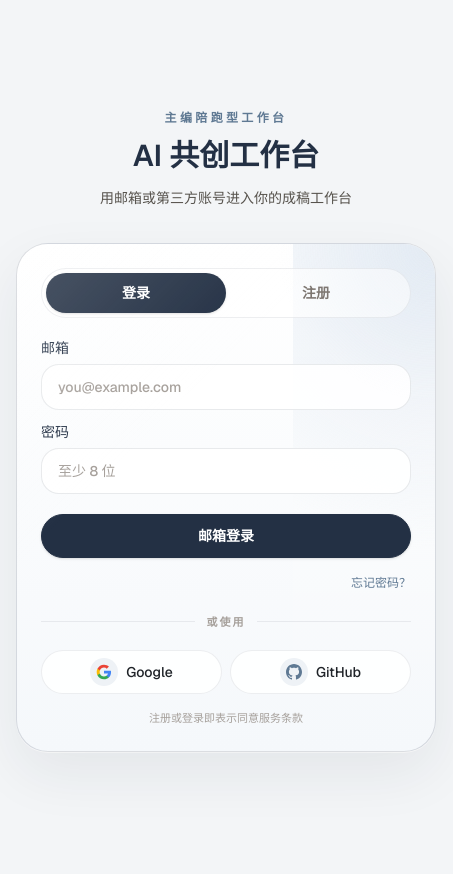
Test: LoginPage › registers with email, name, and password
Click the button "注册" at (316, 292), box [226,272,406,312]
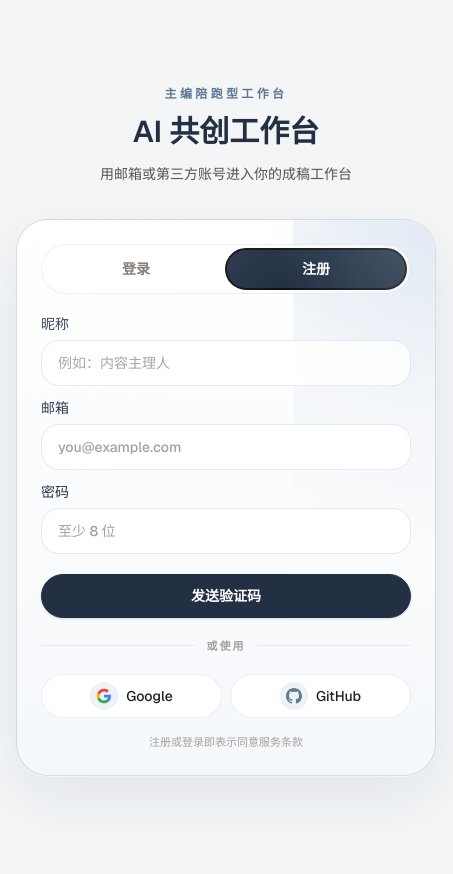
Type "内容主理人" into the field labelled "昵称" at (226, 362), box [41,340,411,386]
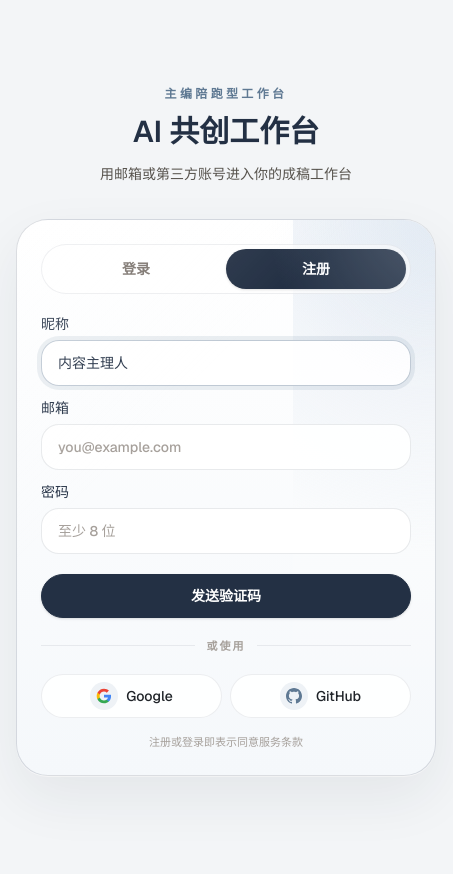
Type "reader@qq.com" into the field labelled "邮箱" at (226, 446), box [41,424,411,470]
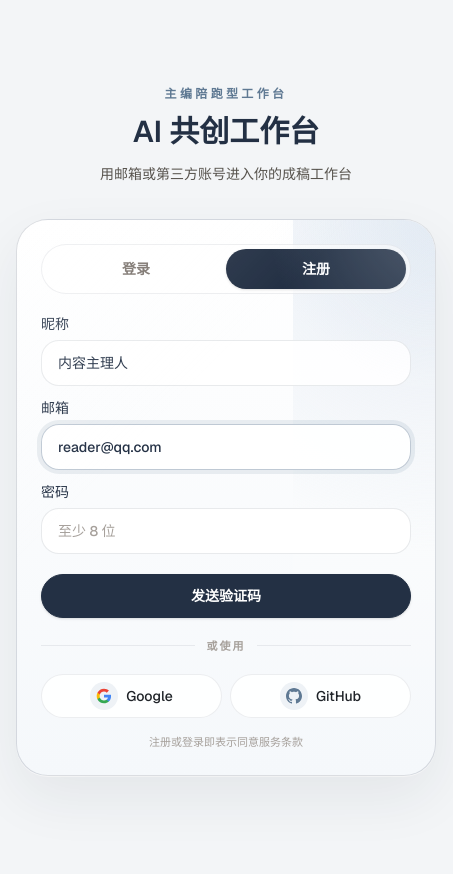
Type "password123" into the password field labelled "密码" at (226, 530), box [41,508,411,554]
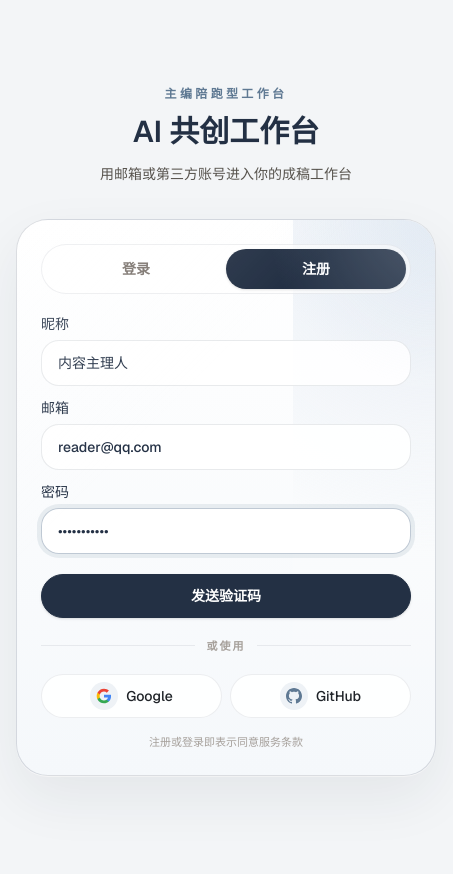
Click the button "发送验证码" at (226, 596), box [41,574,411,618]
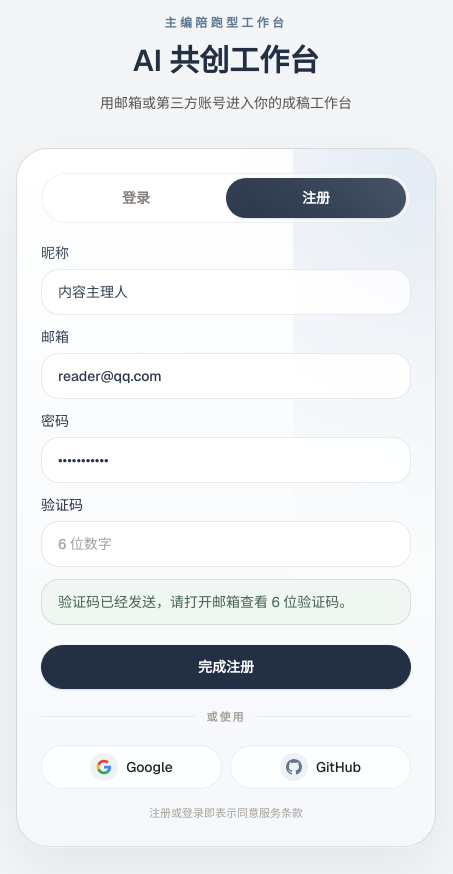
Check: the text "验证码已经发送，请打开邮箱查看 6 位验证码。" is shown, box [41,578,411,624]
Type "123456" into the field labelled "验证码" at (226, 544), box [41,520,411,566]
Click the button "完成注册" at (226, 666), box [41,644,411,688]
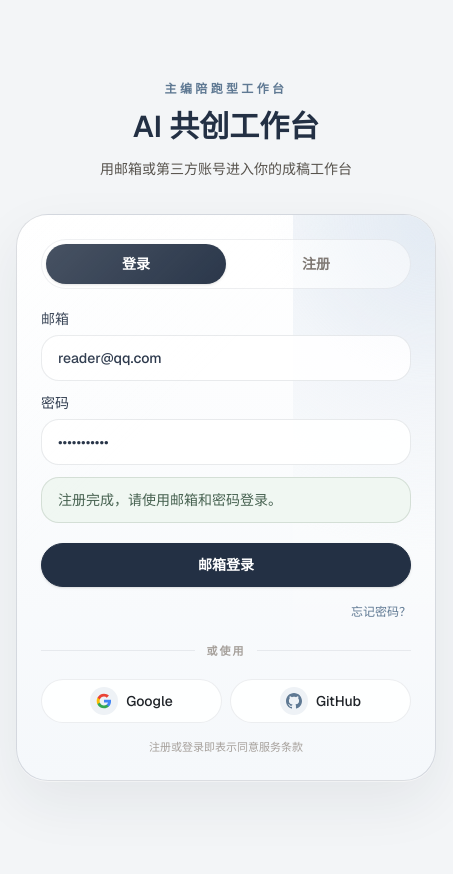
Check: the text "注册完成，请使用邮箱和密码登录。" is shown, box [41,476,411,522]
